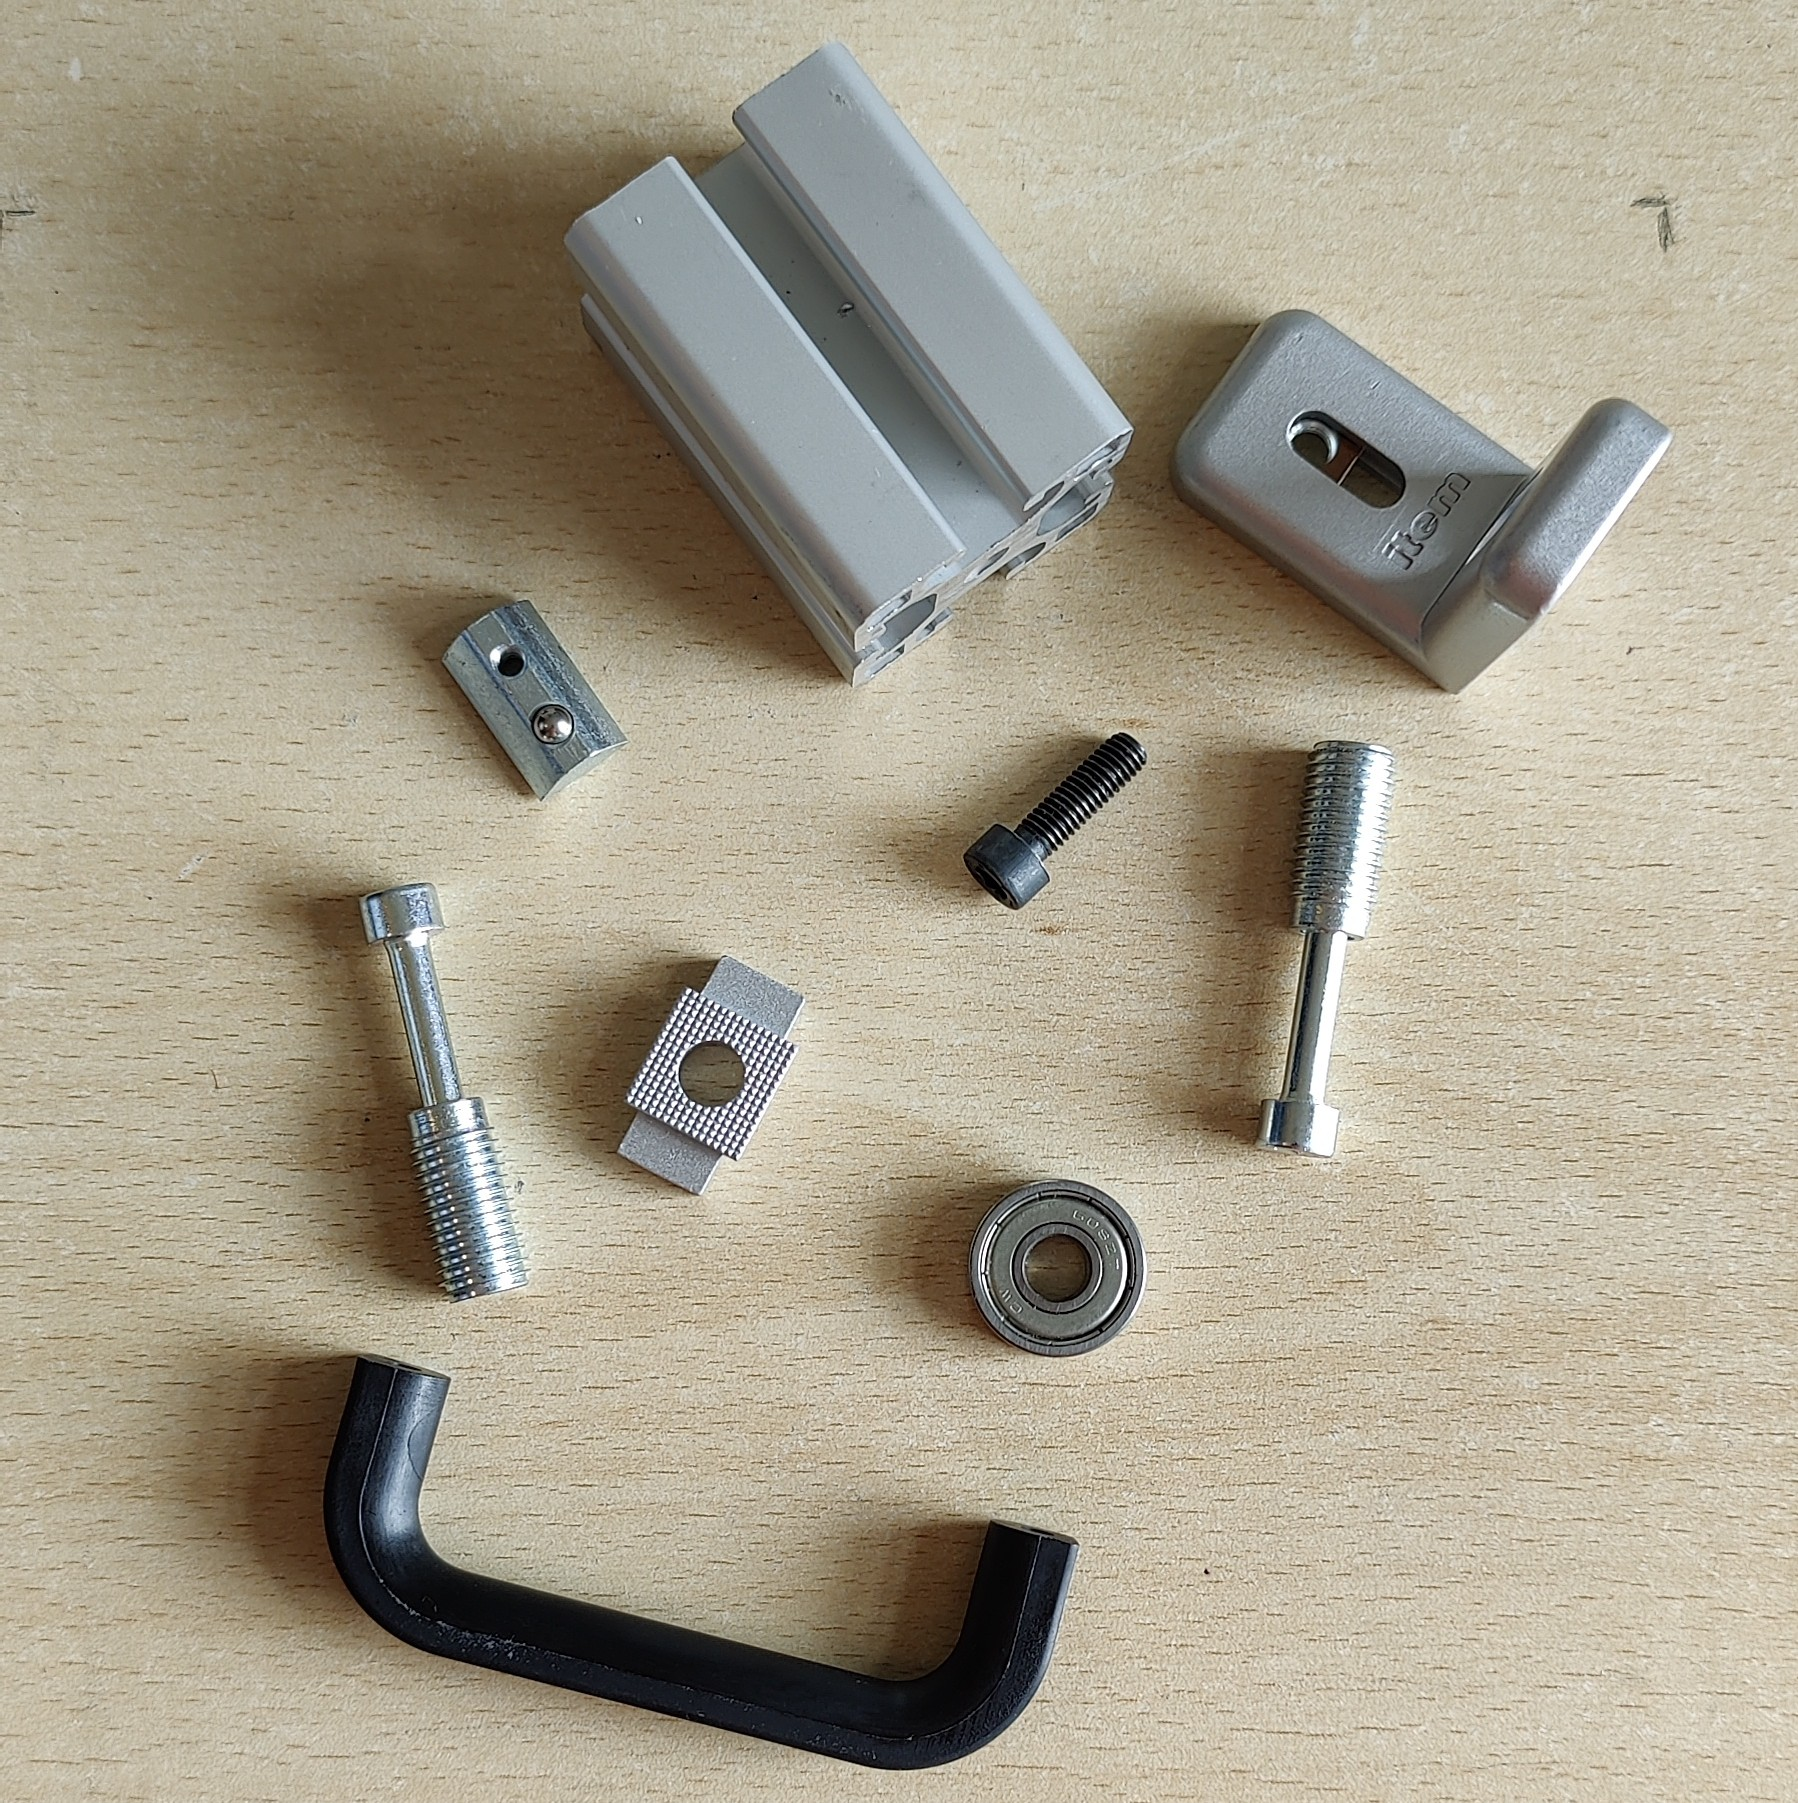Aluminium Extension: (560, 36, 1136, 693)
Ball Bearing: (965, 1179, 1148, 1358)
Multiwinkel: (1171, 308, 1678, 700)
Pull Handle: (323, 1350, 1082, 1773)
Shoulder Socket Head Cap Screw: (356, 879, 532, 1306), (1251, 738, 1400, 1162)
Socket Head Cap Screw: (962, 729, 1154, 912)
T Nut Square: (614, 953, 807, 1200)
T Spring Nut: (436, 598, 632, 807)
